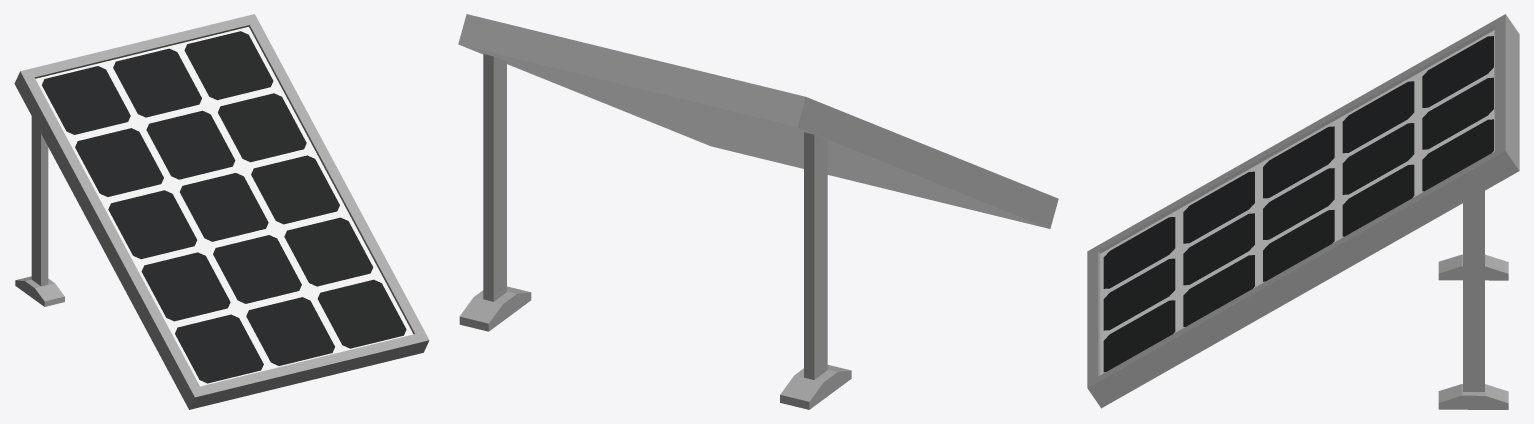
Rendered from pv-module-ground.glb.
The picture shows the model from 3 angles, left to right: view 1: azimuth 30°, elevation 25°; view 2: azimuth 150°, elevation 25°; view 3: azimuth 270°, elevation 25°; orthographic projection. The views are drawn at different scales.
Visible parts, largest first — view 1: SolarPanel_Ground; view 2: SolarPanel_Ground; view 3: SolarPanel_Ground.
Part boxes in pixels (<box>): SolarPanel_Ground: <box>14,14,429,409</box>; SolarPanel_Ground: <box>458,14,1058,409</box>; SolarPanel_Ground: <box>1087,14,1519,409</box>.
Bounding box in the file's own units: 2.32 × 1.97 × 3.
Materials: 1 (1 with a texture image).
